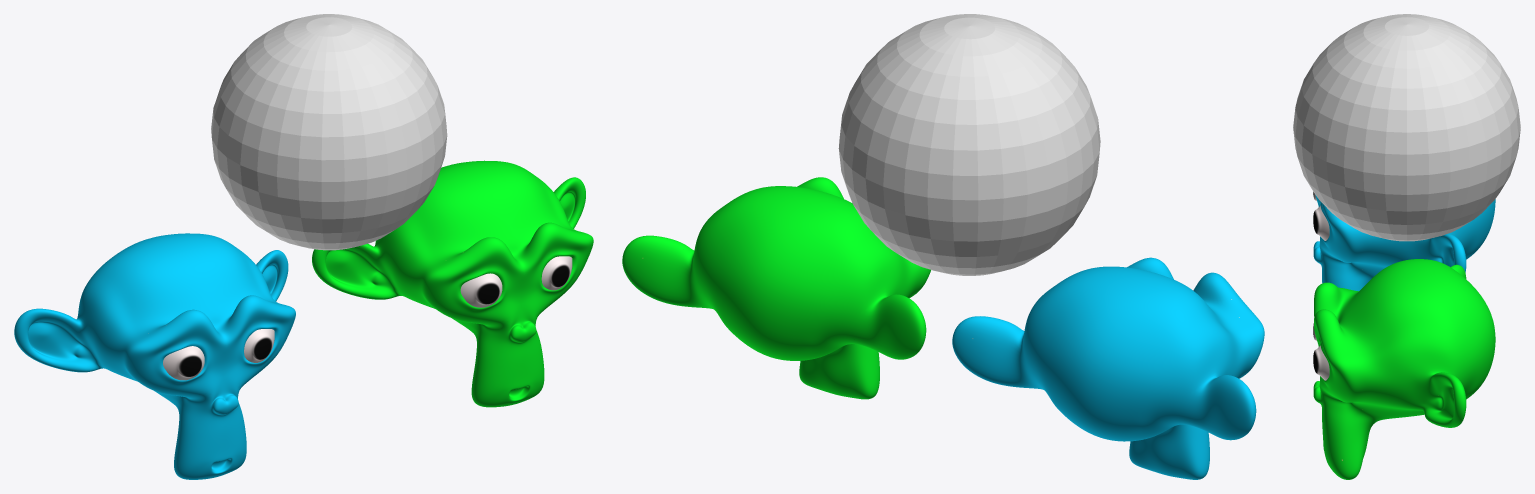
File: testSuzanne.glb
3 views of the same model, side by side, from view 1: azimuth 30°, elevation 25°; view 2: azimuth 150°, elevation 25°; view 3: azimuth 270°, elevation 25° (orthographic). The views are drawn at different scales.
Visible parts, largest first — view 1: Sphere, Suzanne, Suzanne.001; view 2: Sphere, Suzanne, Suzanne.001; view 3: Sphere, Suzanne.001, Suzanne.
Boxes of the visible parts, bbox=[...] form: Sphere: bbox=[211, 14, 447, 250]; Suzanne: bbox=[14, 233, 295, 479]; Suzanne.001: bbox=[312, 160, 593, 407]; Sphere: bbox=[838, 14, 1100, 275]; Suzanne: bbox=[952, 257, 1264, 479]; Suzanne.001: bbox=[622, 177, 930, 399]; Sphere: bbox=[1293, 14, 1520, 241]; Suzanne.001: bbox=[1313, 259, 1495, 479]; Suzanne: bbox=[1313, 192, 1495, 291].
Bounding box in the file's own units: 5.56 × 3.65 × 2.
2 materials, 2 textured.
